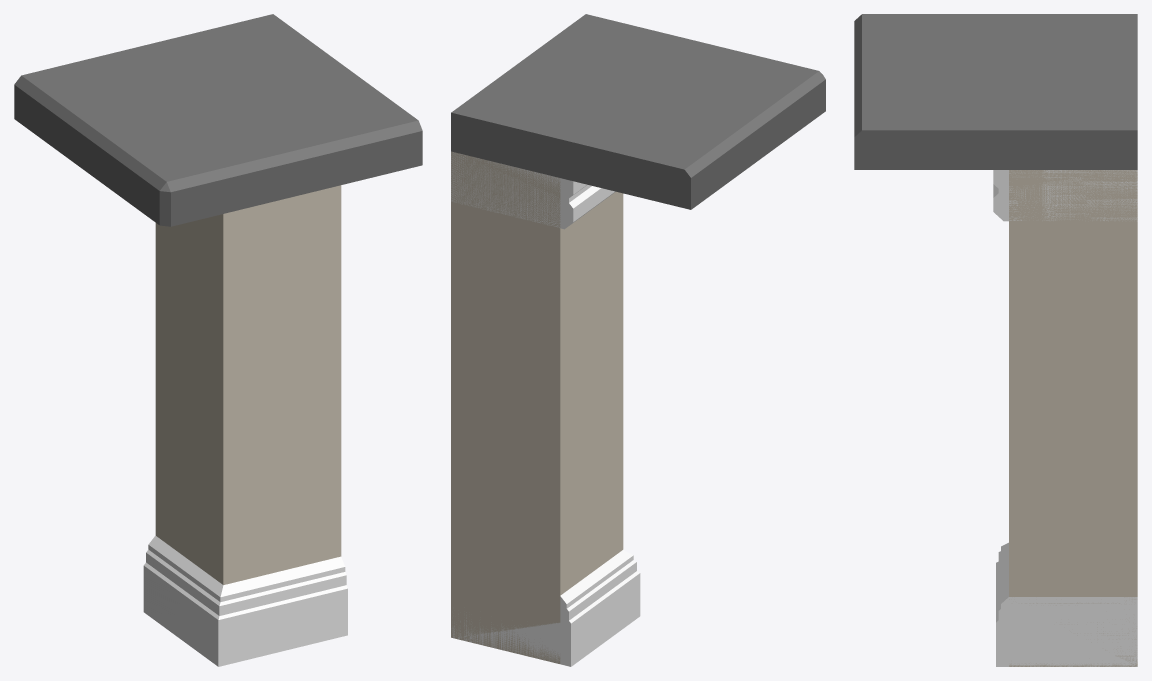
File: Structure_Kitchen_Bar_Corner_Outer.obj
The picture shows the model from 3 angles, left to right: view 1: azimuth 30°, elevation 25°; view 2: azimuth 150°, elevation 25°; view 3: azimuth 270°, elevation 25°; orthographic projection. The views are drawn at different scales.
Visible parts, largest first — view 1: object1, object2, object3; view 2: object1, object2, object3, object4; view 3: object1, object2, object3, object4.
Boxes of the visible parts, left/top/right/bottom form: object1: left=155, top=185, right=341, bottom=584; object2: left=14, top=14, right=422, bottom=226; object3: left=143, top=535, right=347, bottom=666; object1: left=451, top=151, right=623, bottom=663; object2: left=451, top=14, right=825, bottom=209; object3: left=451, top=550, right=640, bottom=666; object4: left=451, top=151, right=615, bottom=229; object1: left=1009, top=170, right=1137, bottom=666; object2: left=854, top=14, right=1137, bottom=169; object3: left=996, top=542, right=1137, bottom=666; object4: left=993, top=170, right=1137, bottom=221.
Size of the model in its own units: 0.55 by 1.15 by 0.55.
